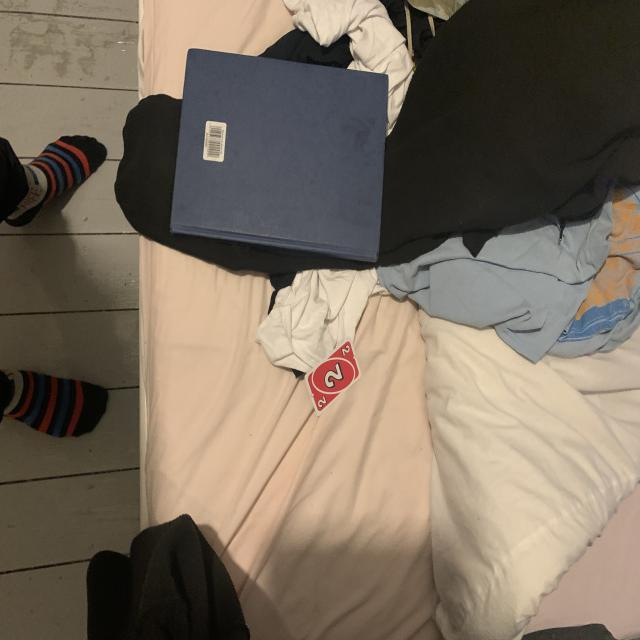lred-2: (339, 343, 353, 358)
